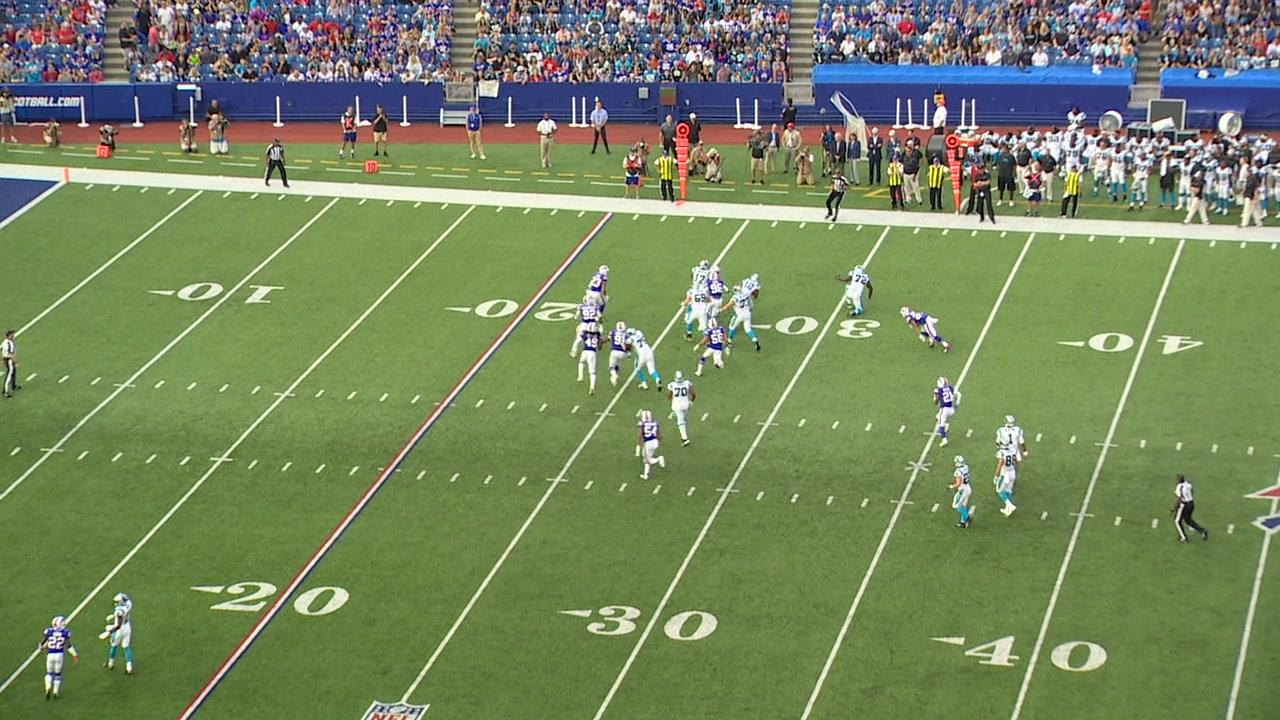ball: (1002, 425, 1020, 449)
five_hash: (889, 498, 915, 506), (1068, 511, 1095, 518), (208, 456, 235, 463), (112, 382, 137, 389), (1094, 441, 1119, 448), (273, 391, 297, 398), (714, 487, 741, 493), (39, 447, 65, 453), (544, 477, 569, 483), (593, 411, 617, 417), (756, 421, 780, 427)
hash: (650, 482, 664, 496), (1148, 516, 1162, 530), (245, 458, 260, 471), (56, 373, 72, 385), (75, 449, 91, 461), (828, 418, 842, 431), (279, 460, 293, 473), (414, 469, 428, 482), (1112, 515, 1126, 528), (343, 390, 359, 401), (23, 372, 40, 382), (217, 382, 230, 395), (448, 471, 461, 484), (482, 473, 495, 486), (823, 494, 836, 507), (408, 393, 422, 405), (110, 451, 124, 463), (144, 453, 158, 465), (1038, 509, 1052, 521), (152, 379, 167, 390), (89, 375, 102, 387), (186, 380, 199, 392), (249, 384, 262, 396), (1173, 440, 1185, 453), (582, 479, 595, 491), (859, 496, 871, 509), (347, 465, 361, 476), (314, 388, 326, 400), (698, 411, 710, 423), (516, 475, 528, 487), (616, 481, 628, 493), (686, 485, 698, 497), (1225, 523, 1237, 535), (377, 392, 390, 403), (473, 398, 486, 409), (504, 400, 517, 411), (537, 402, 550, 413), (568, 404, 581, 415), (179, 455, 192, 466), (731, 413, 743, 424), (1033, 431, 1044, 443), (1209, 442, 1220, 454), (754, 490, 765, 502), (929, 503, 941, 514), (9, 446, 22, 456), (797, 417, 808, 428), (863, 421, 874, 432), (897, 423, 908, 434), (964, 428, 975, 439), (315, 463, 326, 474), (1067, 435, 1078, 445), (1138, 439, 1148, 450), (1245, 445, 1255, 456), (789, 493, 800, 503)
marker: (946, 133, 964, 214), (675, 123, 689, 200)
number: (585, 598, 723, 647), (963, 629, 1110, 674), (206, 579, 353, 620), (1086, 328, 1206, 358), (773, 313, 883, 345), (473, 295, 580, 325), (177, 280, 287, 308)
player: (63, 167, 71, 183)
